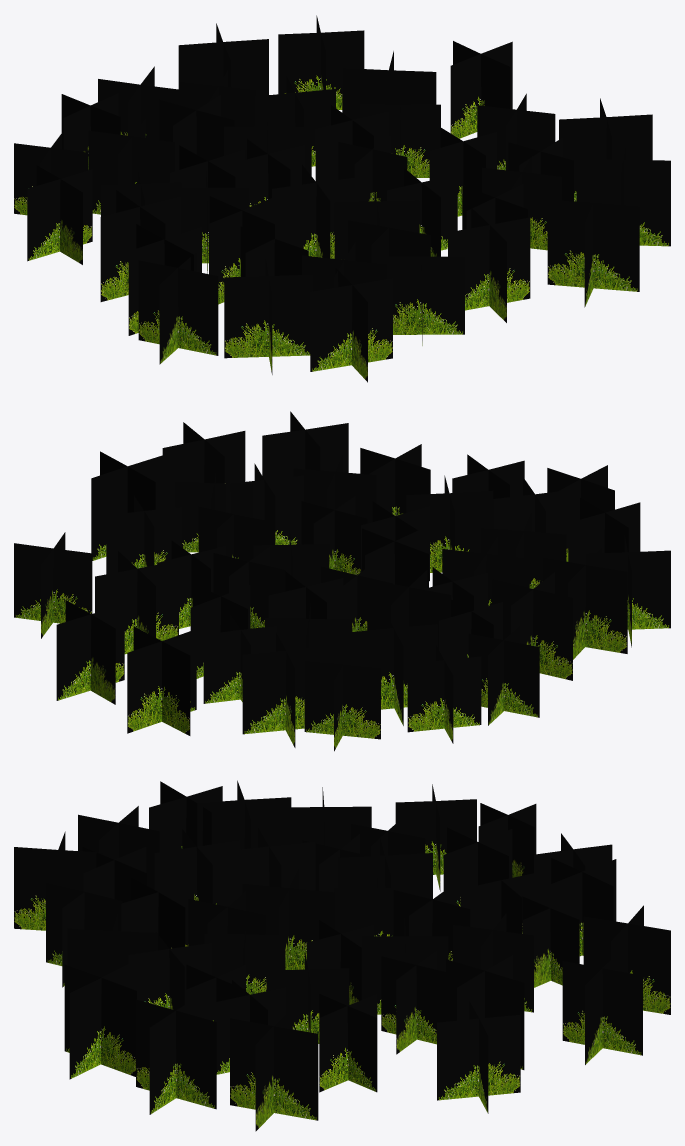
The model's file is Grass_Patch.fbx.
The picture shows the model from 3 angles, top to bottom: view 1: azimuth 30°, elevation 25°; view 2: azimuth 150°, elevation 25°; view 3: azimuth 270°, elevation 25°; orthographic projection. The views are drawn at different scales.
Parts seen in each view (by area): view 1: Grass.044; view 2: Grass.044; view 3: Grass.044.
Part boxes in pixels (x1,y1,x2,y2): Grass.044: [14, 15, 670, 382]; Grass.044: [14, 411, 670, 751]; Grass.044: [14, 780, 670, 1131].
Bounding box in the file's own units: 724 × 112 × 750.
